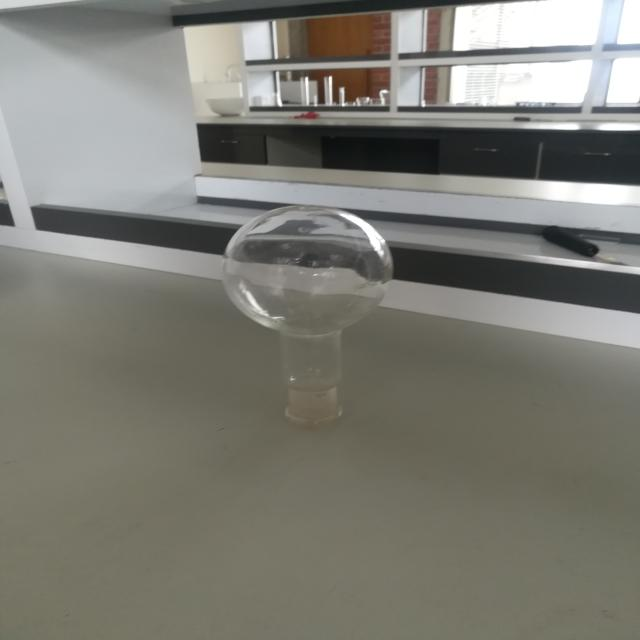Round_Bottom_Flask_Borosilicate_Glass_1_Neck: (185, 164, 458, 458)
